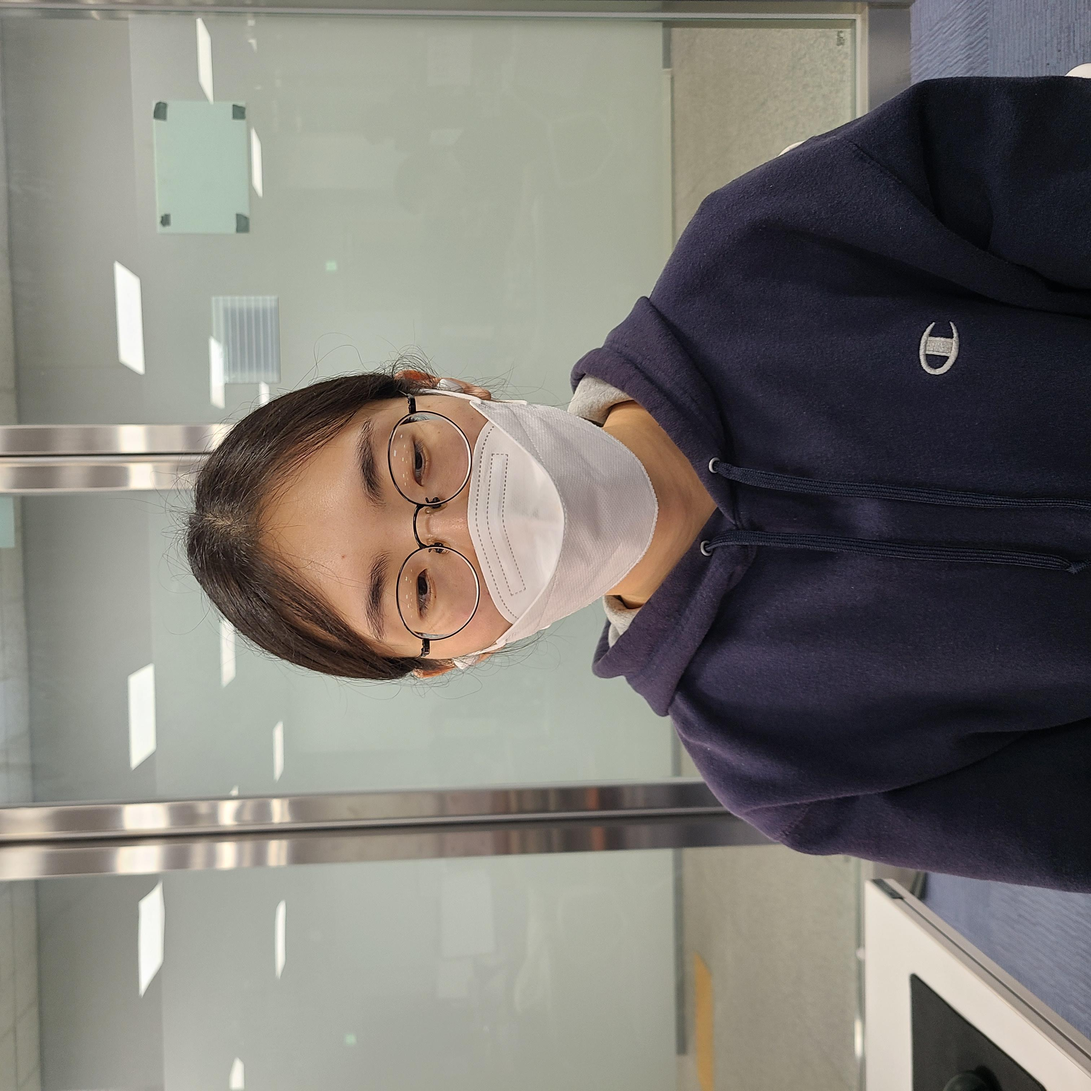earphone: (690, 433, 720, 480), (414, 448, 439, 486)
